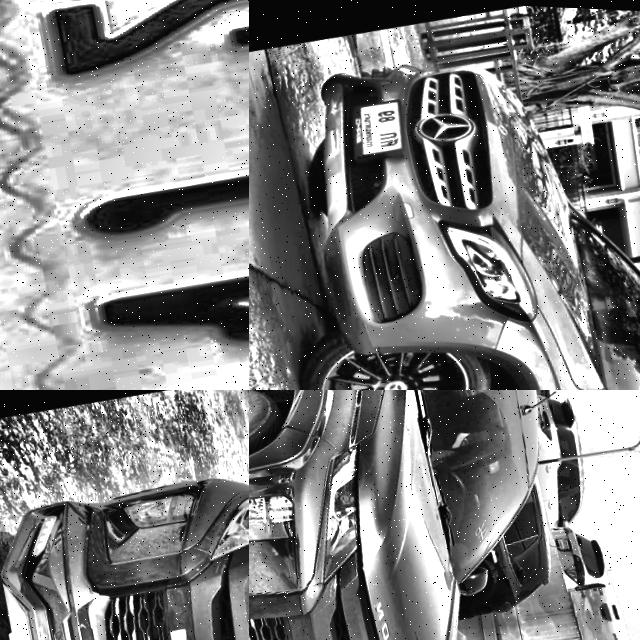license-plate: (0, 0, 249, 390), (347, 93, 412, 161), (553, 528, 576, 549)
